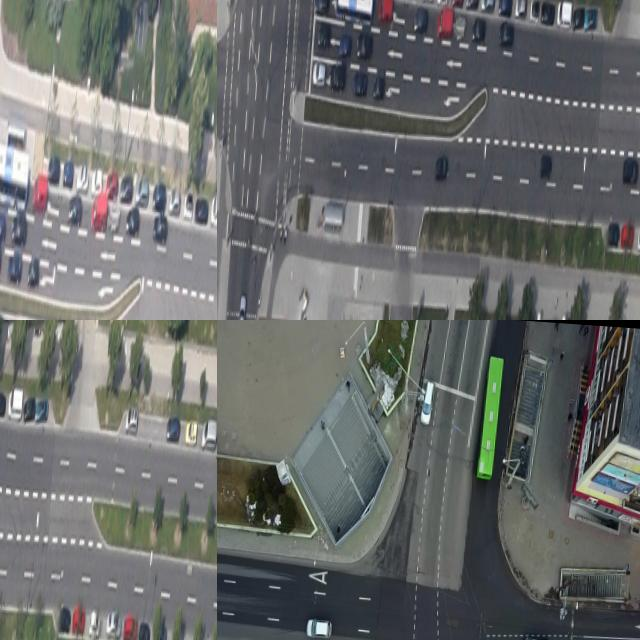UAI: (90, 196, 107, 231), (305, 617, 332, 639), (435, 8, 452, 40), (7, 250, 23, 283), (201, 418, 217, 451), (7, 386, 23, 419), (10, 214, 27, 245), (356, 32, 373, 60), (125, 207, 140, 238), (152, 213, 168, 242), (106, 610, 122, 639), (330, 63, 346, 91), (413, 5, 428, 34), (498, 20, 513, 49), (622, 158, 639, 183), (194, 197, 209, 225), (165, 415, 180, 443), (122, 614, 138, 640), (68, 196, 82, 225), (152, 183, 166, 212), (134, 178, 148, 207), (124, 406, 138, 435), (556, 0, 571, 27), (119, 175, 133, 203), (317, 21, 331, 49), (376, 0, 392, 24), (76, 163, 89, 192), (48, 154, 61, 183), (352, 71, 367, 96), (471, 17, 486, 42), (27, 260, 40, 288), (71, 606, 85, 632), (434, 156, 448, 181), (312, 61, 326, 86), (106, 173, 119, 199), (607, 221, 620, 247), (539, 154, 552, 180), (58, 606, 71, 632), (184, 418, 197, 444), (35, 396, 48, 422), (91, 169, 103, 197), (88, 609, 100, 637), (23, 394, 35, 422), (372, 75, 385, 100), (540, 1, 554, 24), (62, 159, 73, 188), (108, 205, 120, 231), (454, 14, 465, 42), (339, 33, 351, 58), (572, 6, 584, 31), (621, 223, 634, 246), (584, 7, 597, 29), (209, 192, 217, 227), (169, 190, 181, 213), (183, 193, 193, 219), (137, 620, 150, 640), (235, 295, 245, 320), (497, 0, 512, 16), (313, 0, 329, 14), (529, 0, 539, 20), (514, 0, 526, 16), (0, 212, 6, 241), (480, 0, 494, 12), (520, 635, 550, 640), (0, 391, 5, 416), (465, 0, 478, 8), (637, 222, 640, 250), (451, 0, 464, 6)
car: (475, 353, 505, 479), (0, 140, 30, 209), (335, 0, 375, 23)
harvester: (419, 378, 436, 426), (31, 174, 49, 215)
